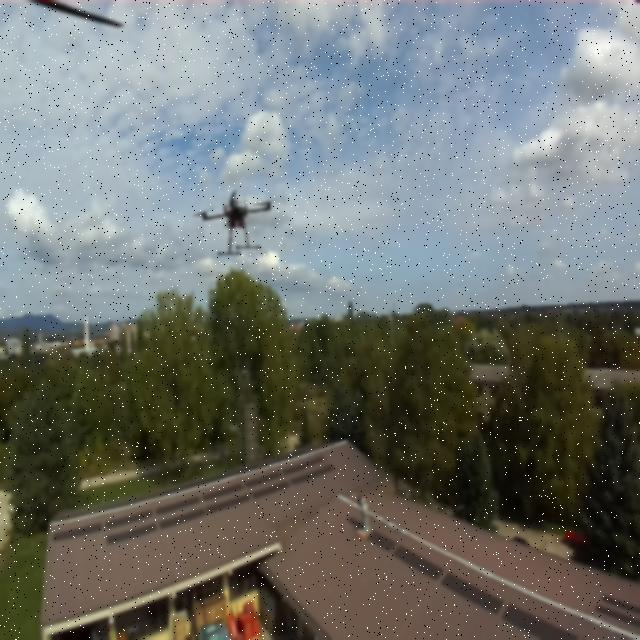UAV: (192, 183, 284, 259)
